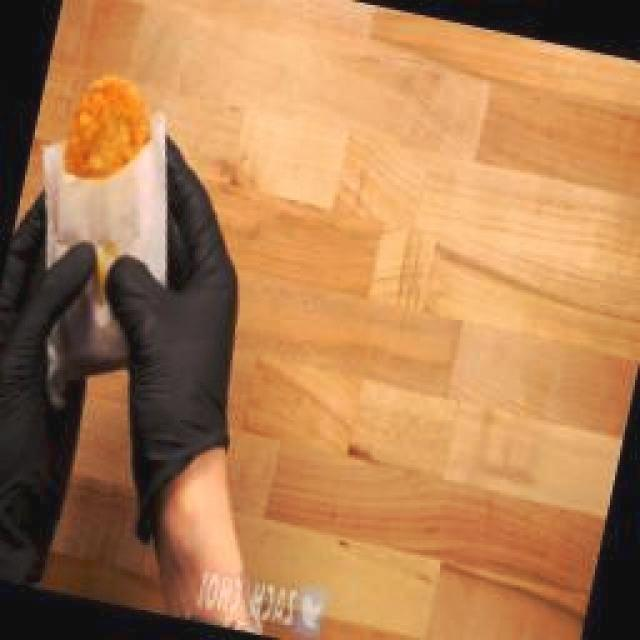Hashbrown: (65, 77, 148, 178)
